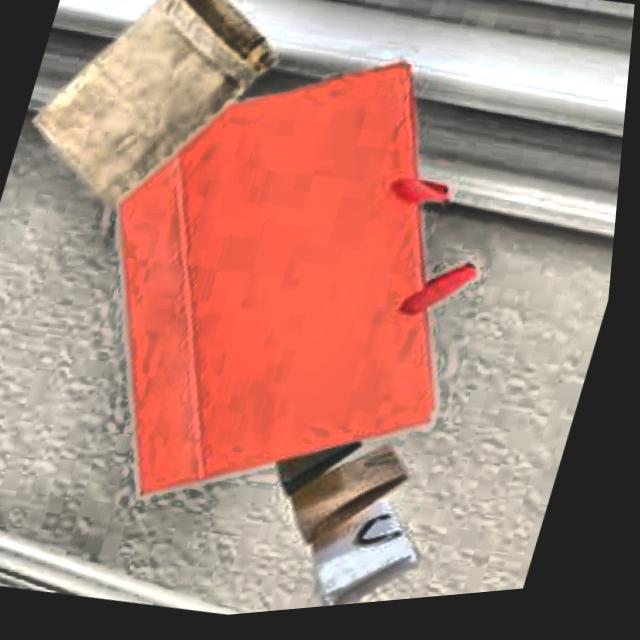Paper-bag: (17, 0, 548, 577), (6, 0, 303, 253), (235, 392, 465, 620)
